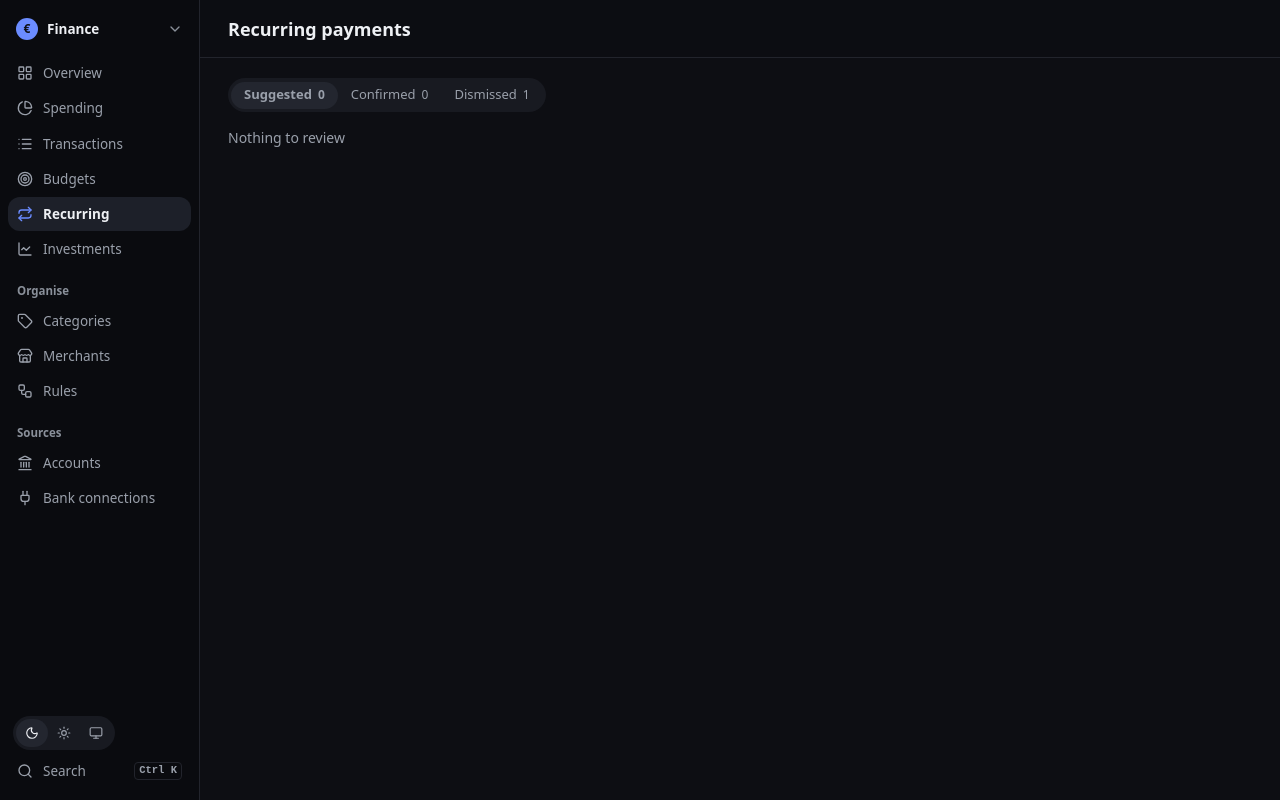
Scenario: says what is missing on an empty tab
This screenshot has width=1280, height=800.
Expected: the text "Nothing to review" is shown, [228,128,345,147]
Step 1. Press the mouse on the tab "Confirmed 0" → (390, 95), box [338,82,442,108]
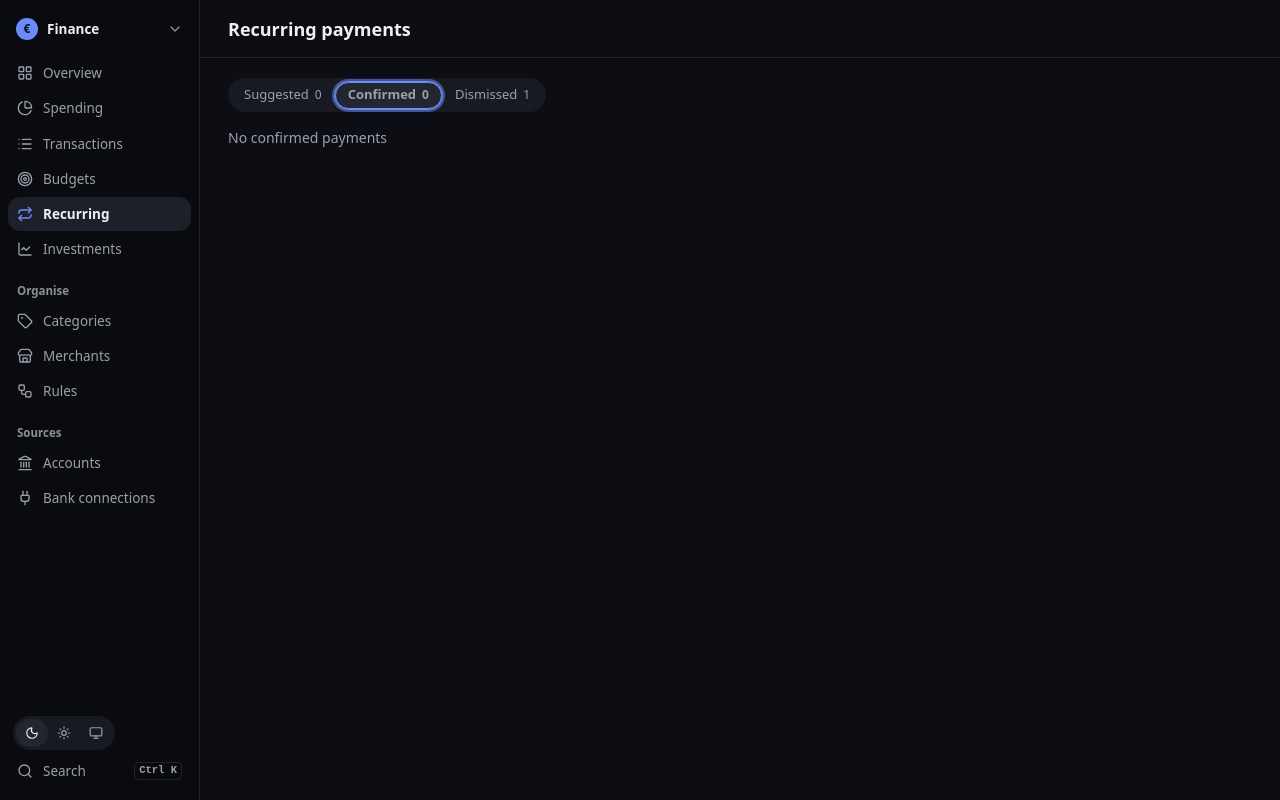
Expected: the text "No confirmed payments" is shown, [228,128,387,147]
